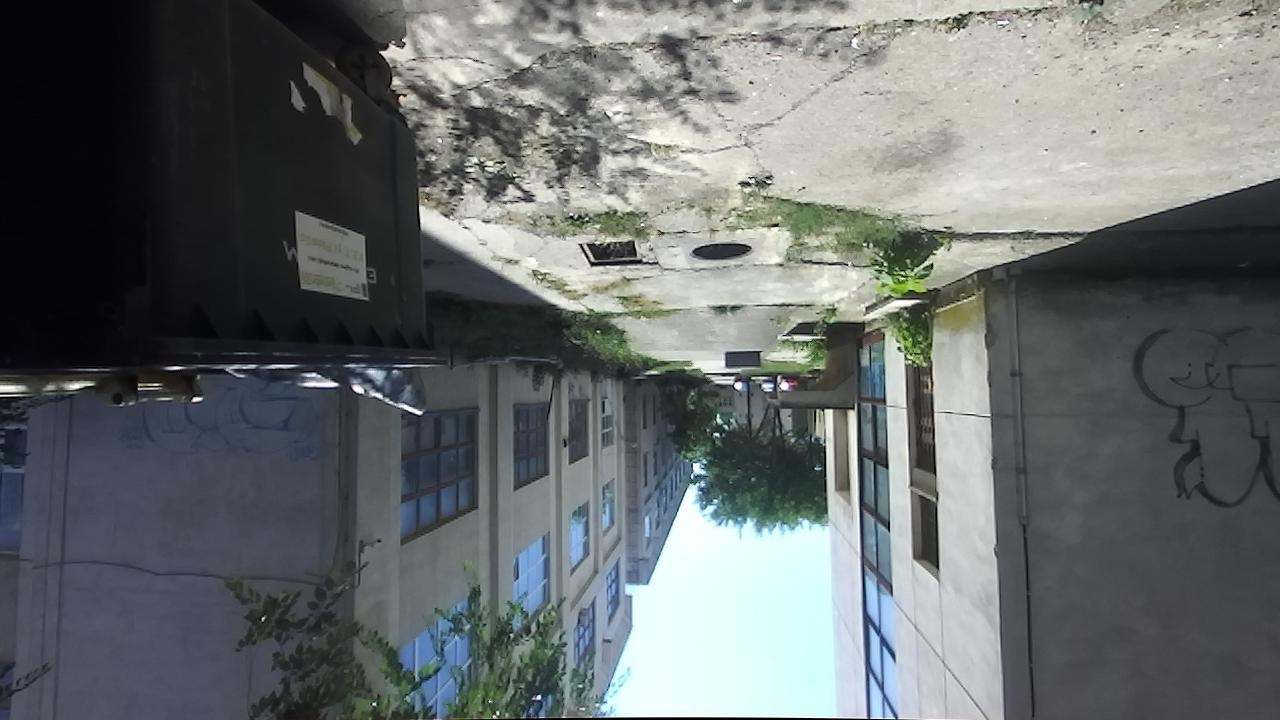drain: (574, 239, 646, 270), (682, 239, 757, 262)
